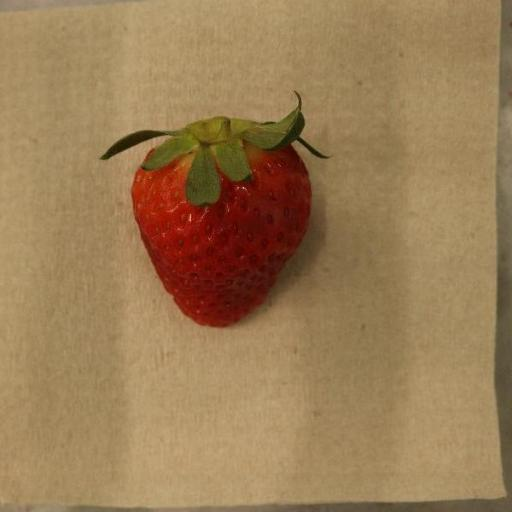Strawberry: (101, 92, 329, 329)
